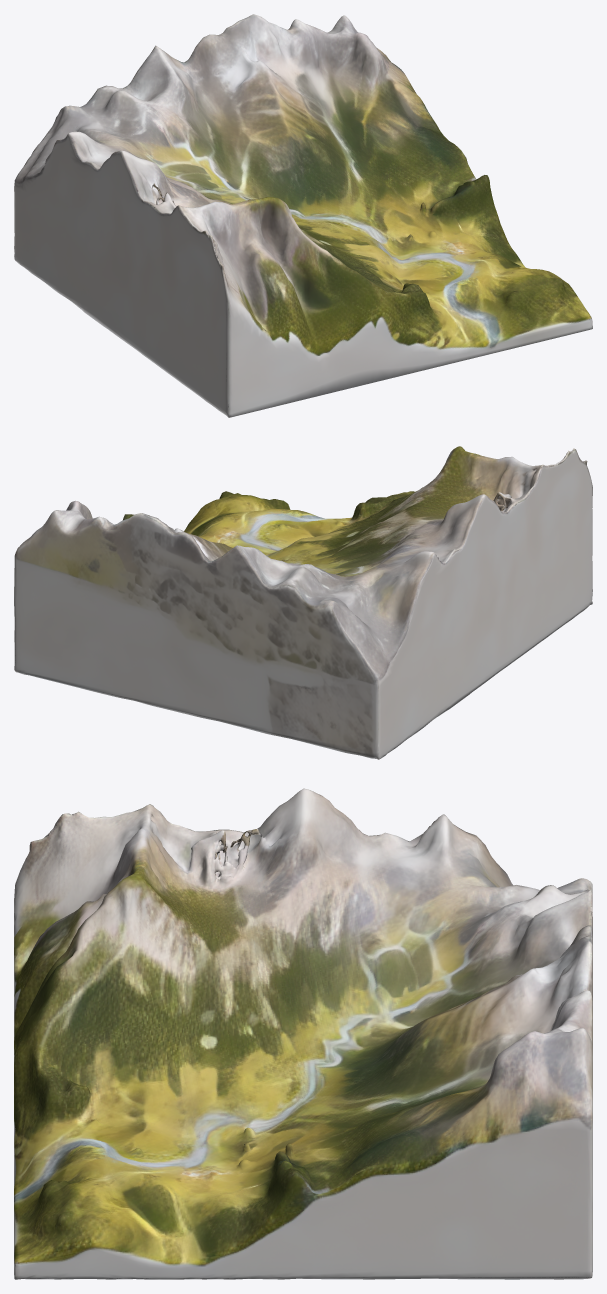
Rendered from base_basic_pbr.glb.
The picture shows the model from 3 angles, top to bottom: view 1: azimuth 30°, elevation 25°; view 2: azimuth 150°, elevation 25°; view 3: azimuth 270°, elevation 25°; orthographic projection. The views are drawn at different scales.
Visible parts, largest first — view 1: model; view 2: model; view 3: model.
Part boxes in pixels (x1,y1,x2,y2): model: (14,14,592,417); model: (14,446,592,759); model: (14,788,592,1279).
Size of the model in its own units: 1.86 by 0.9204 by 1.89.
Materials: 1 (1 with a texture image).
